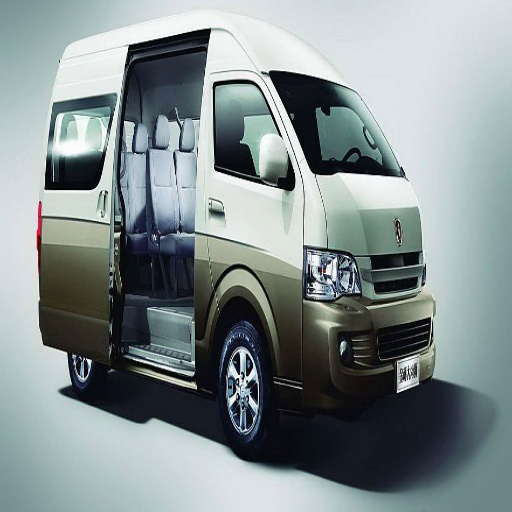front_bumper: (275, 252, 435, 404)
front_right_door: (208, 71, 303, 238)
front_right_light: (304, 249, 359, 302)
trunk: (147, 234, 286, 357)
